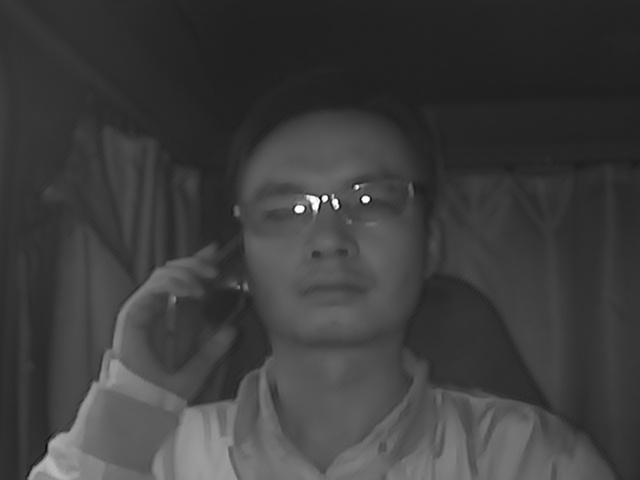hand: (119, 242, 237, 395)
